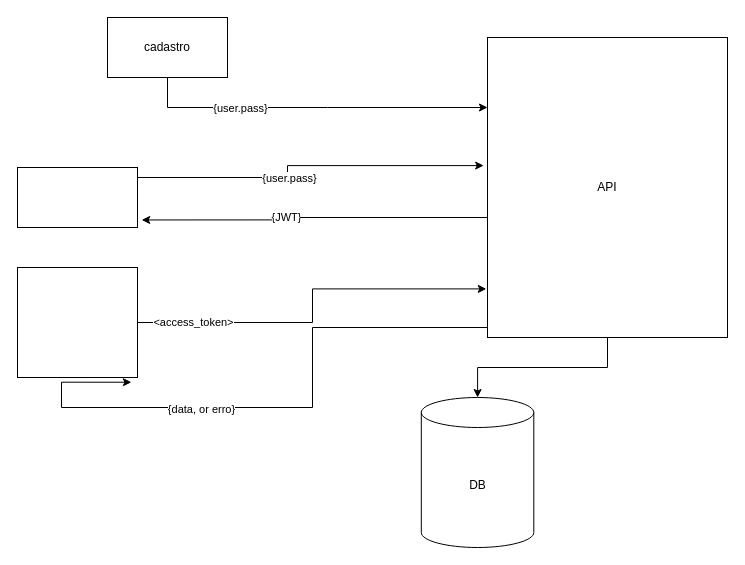
Some shapes in this 745 by 565 pixel diagram are drawn without their labels. Here are the shapes that lost their labels. From the top down, the centre of each, then its label:
At [77,197]: "login".
At [77,322]: "auth".
